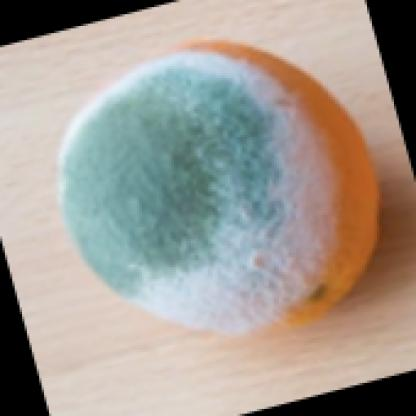rotten: (57, 40, 382, 339)
